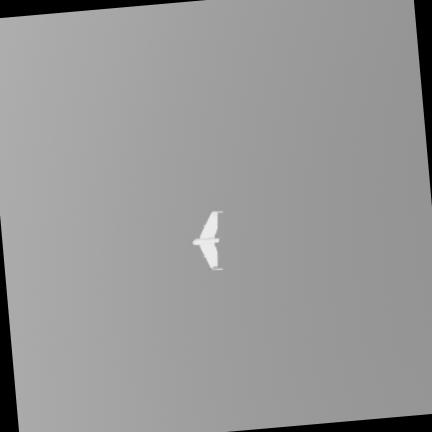Shahed: (192, 211, 221, 269)
